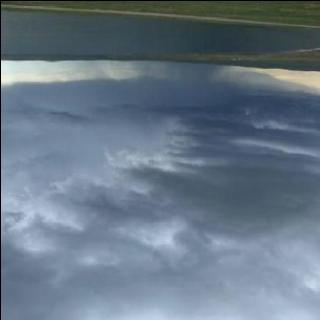Nimbostratus: (0, 49, 320, 320)
